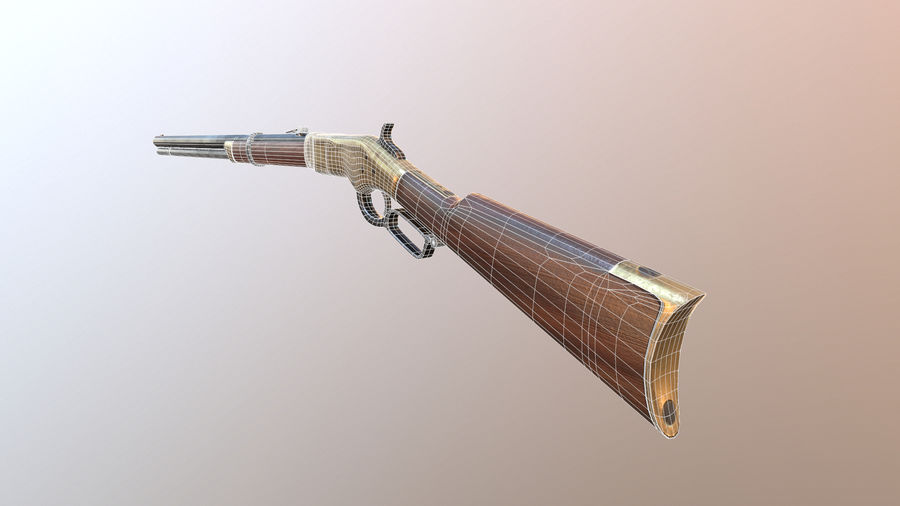weapon: (151, 124, 706, 437)
